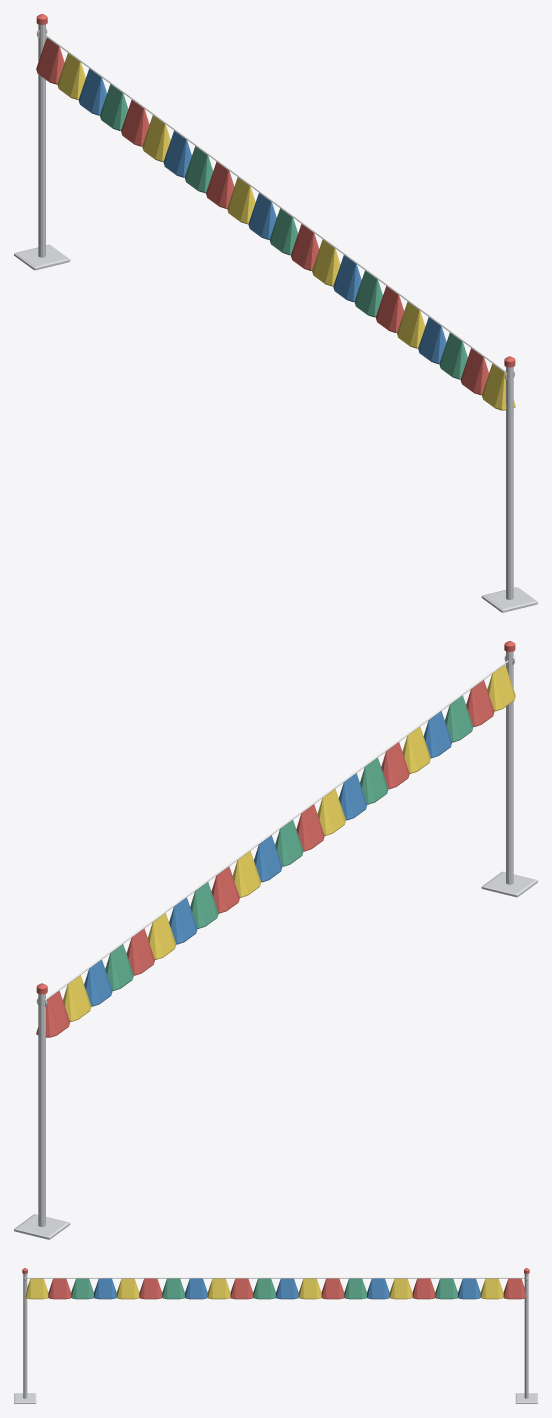
Rendered from public-swimming-baths-and-poolside-backstroke-flag-lin-ba2b77d6__35246.glb.
3 views of the same model, one above another, from view 1: azimuth 30°, elevation 25°; view 2: azimuth 150°, elevation 25°; view 3: azimuth 270°, elevation 25° (orthographic). The views are drawn at different scales.
Visible parts, largest first — view 1: backstroke-flag-line; view 2: backstroke-flag-line; view 3: backstroke-flag-line.
Part boxes in pixels (<box>): backstroke-flag-line: <box>14,14,537,612</box>; backstroke-flag-line: <box>14,641,537,1239</box>; backstroke-flag-line: <box>14,1268,537,1403</box>.
Size of the model in its own units: 0.3402 by 2.19 by 7.94.
